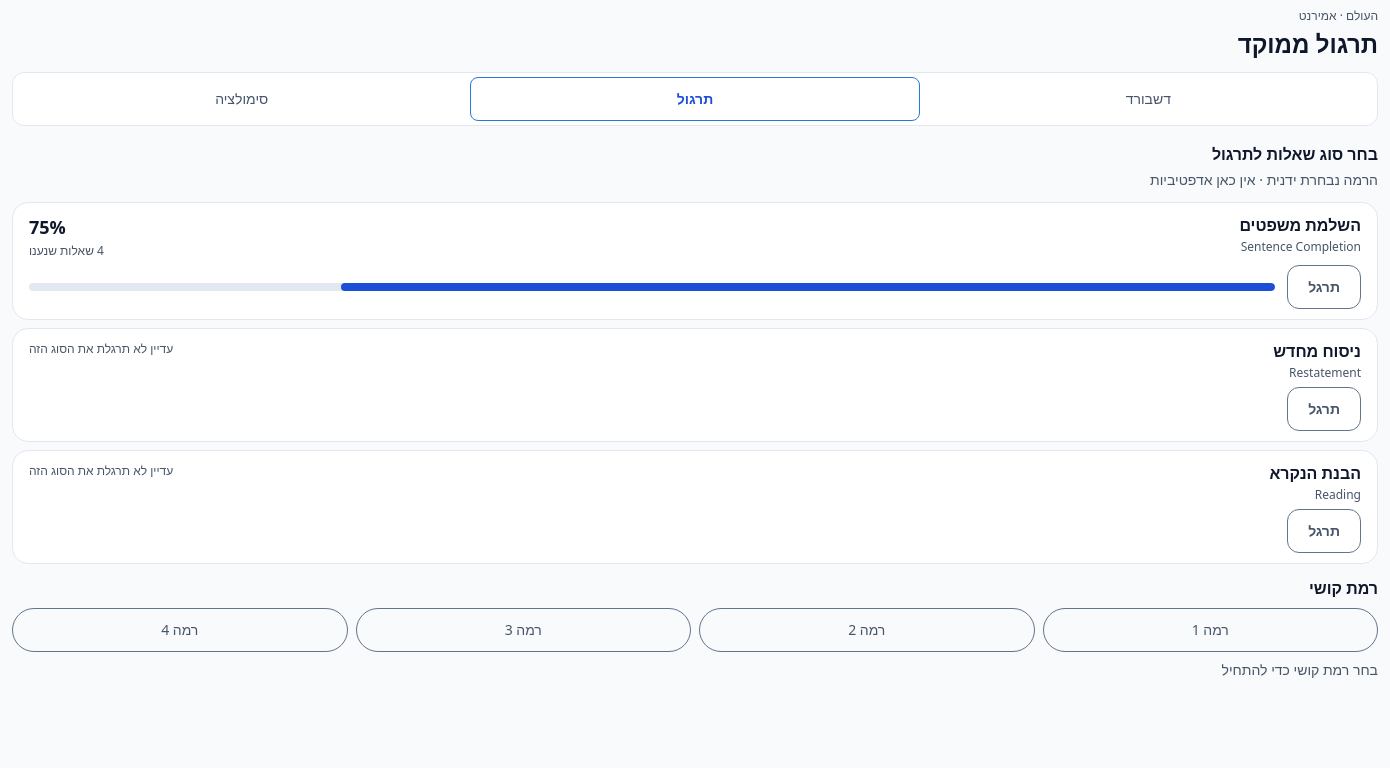
Test case: AmirnetPracticeFlow — T-498 · F-331, a dead session has a way out › any other failure keeps «back to menu», ⛔ and ⛔ no sign-in link for a signed-in learner
What coordinates should you click on to do the following:
click the button "רמה 2"
I would click on:
 (867, 630)
Its box is [699,608,1034,652].
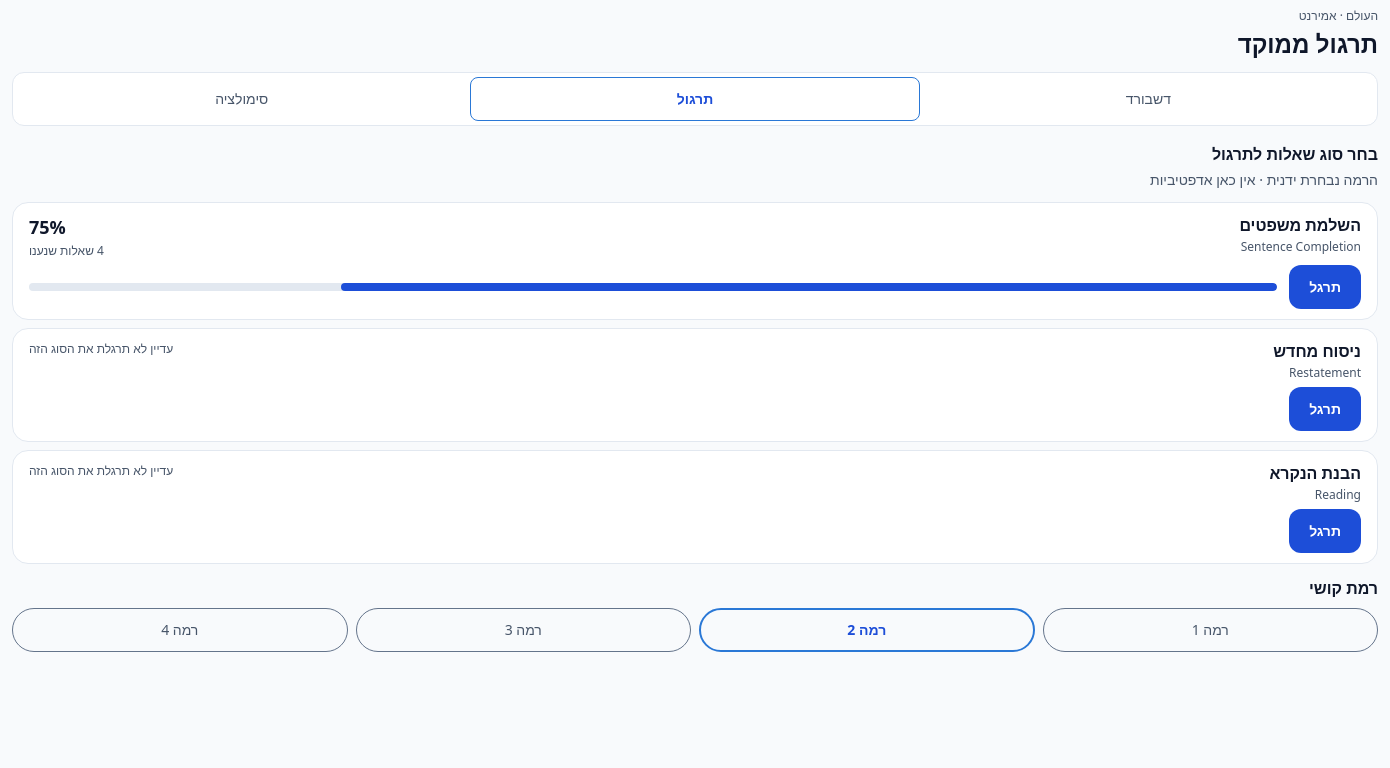
What coordinates should you click on to do the following:
click the button "תרגל" below "השלמת משפטים"
I would click on:
 (1325, 287)
Its box is [1289,265,1361,309].
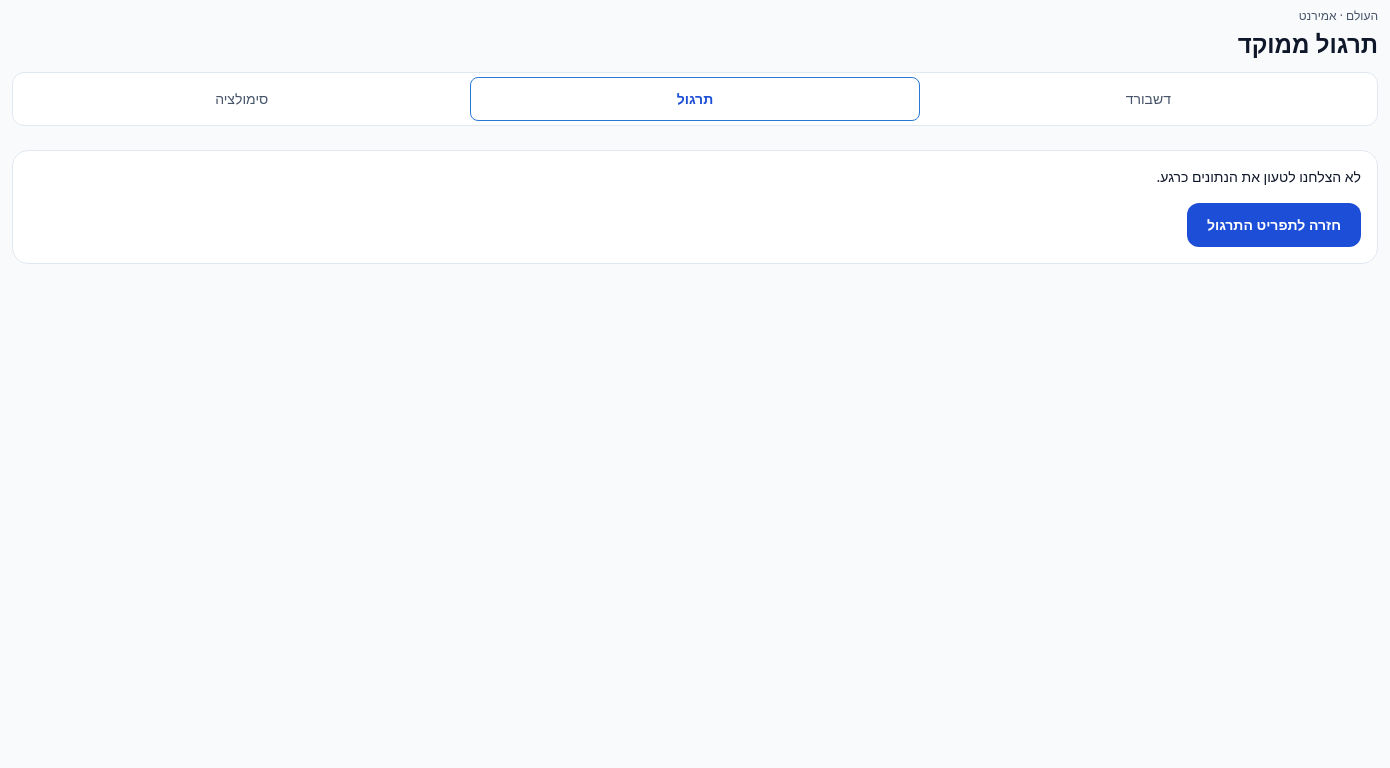
Expected: the button "חזרה לתפריט התרגול" is shown, [1187,203,1361,247]
